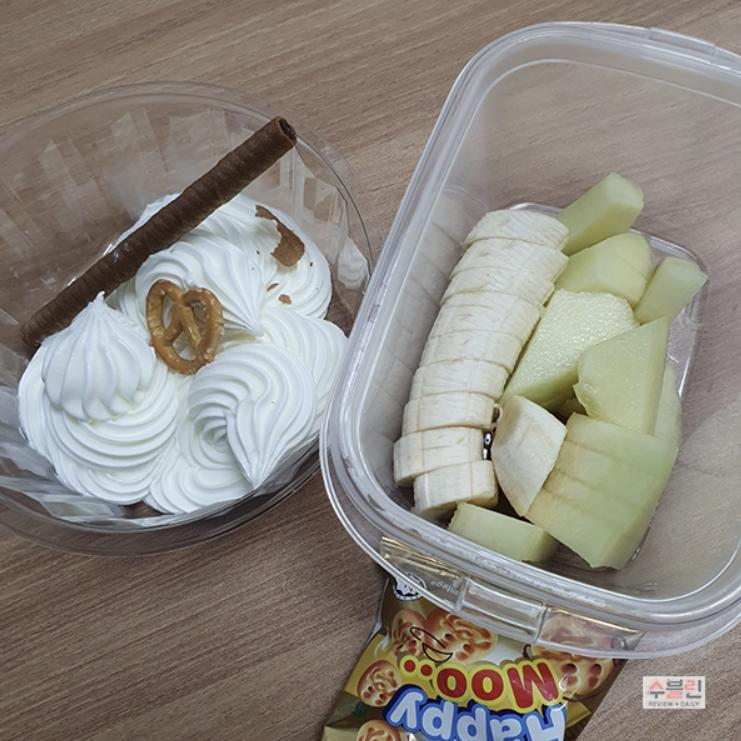Lunch Box: (320, 23, 740, 656), (0, 83, 371, 552)
